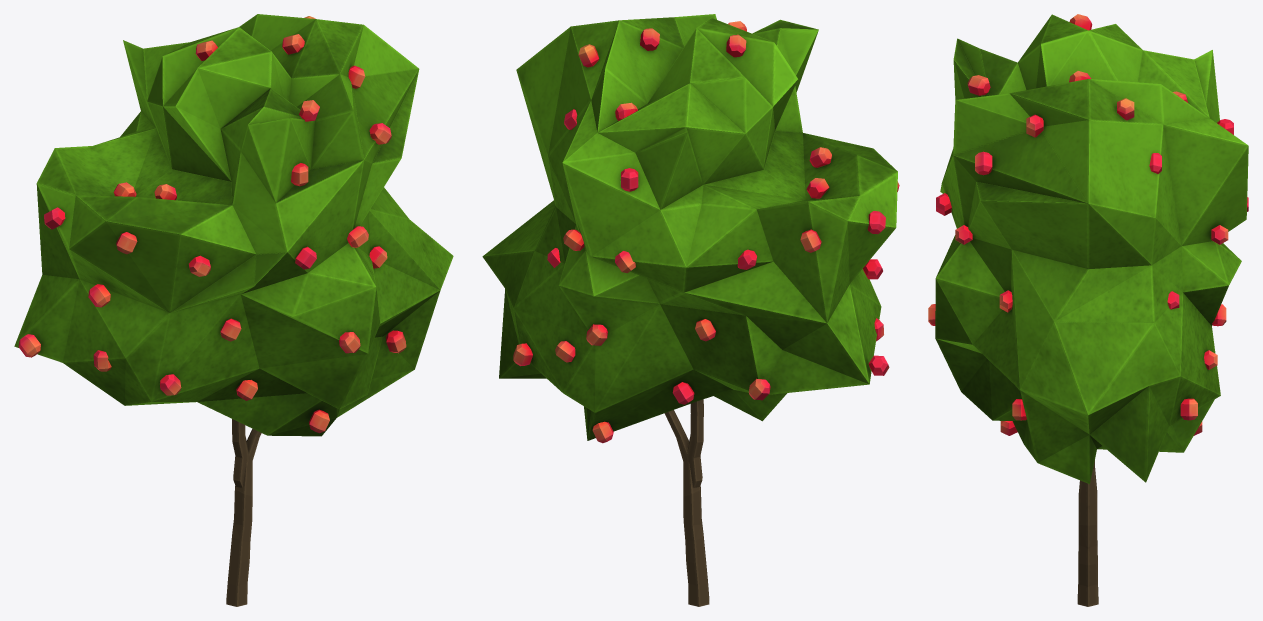
Rendered from AppleTree_Bloom.gltf.
3 views of the same model, side by side, from view 1: azimuth 30°, elevation 25°; view 2: azimuth 150°, elevation 25°; view 3: azimuth 270°, elevation 25° (orthographic).
Visible parts, largest first — view 1: node-0; view 2: node-0; view 3: node-0.
Part boxes in pixels (x1=…): node-0: x1=14, y1=14, x2=453, y2=606; node-0: x1=482, y1=14, x2=899, y2=606; node-0: x1=928, y1=14, x2=1248, y2=606.
Size of the model in its own units: 10.83 by 14.15 by 7.18.
1 material, 1 textured.
